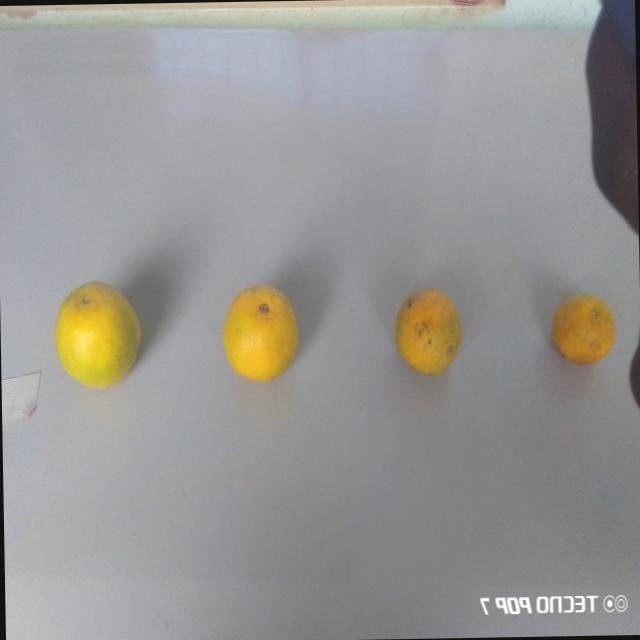agrume: (52, 274, 149, 393), (208, 278, 301, 397), (388, 280, 480, 384), (531, 292, 619, 380)
